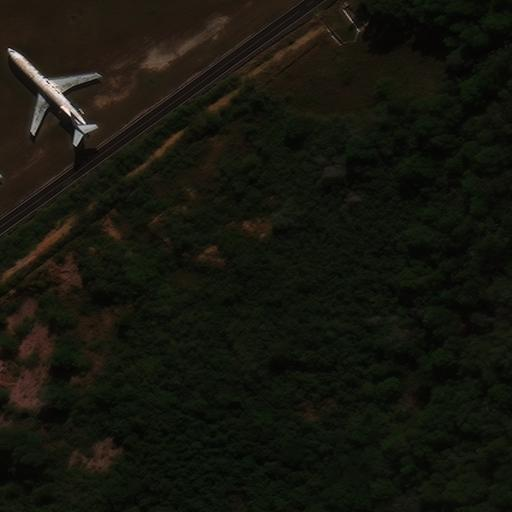Medium Civil Transport: (9, 50, 97, 133)
